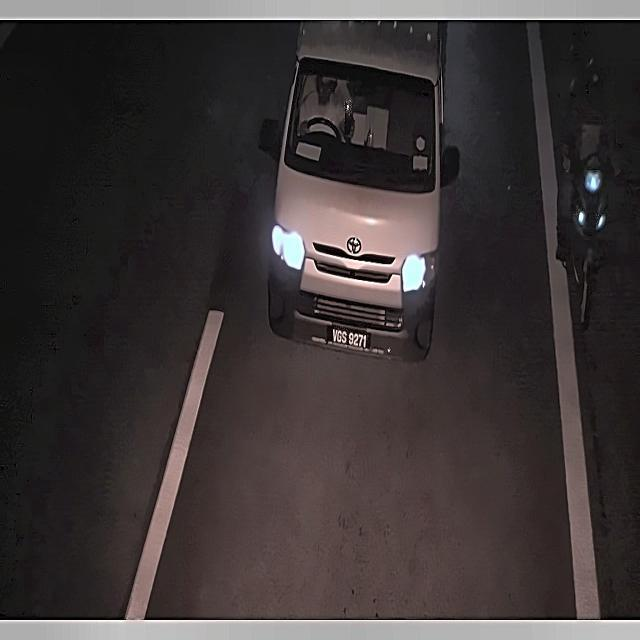car: (323, 324, 372, 352)
